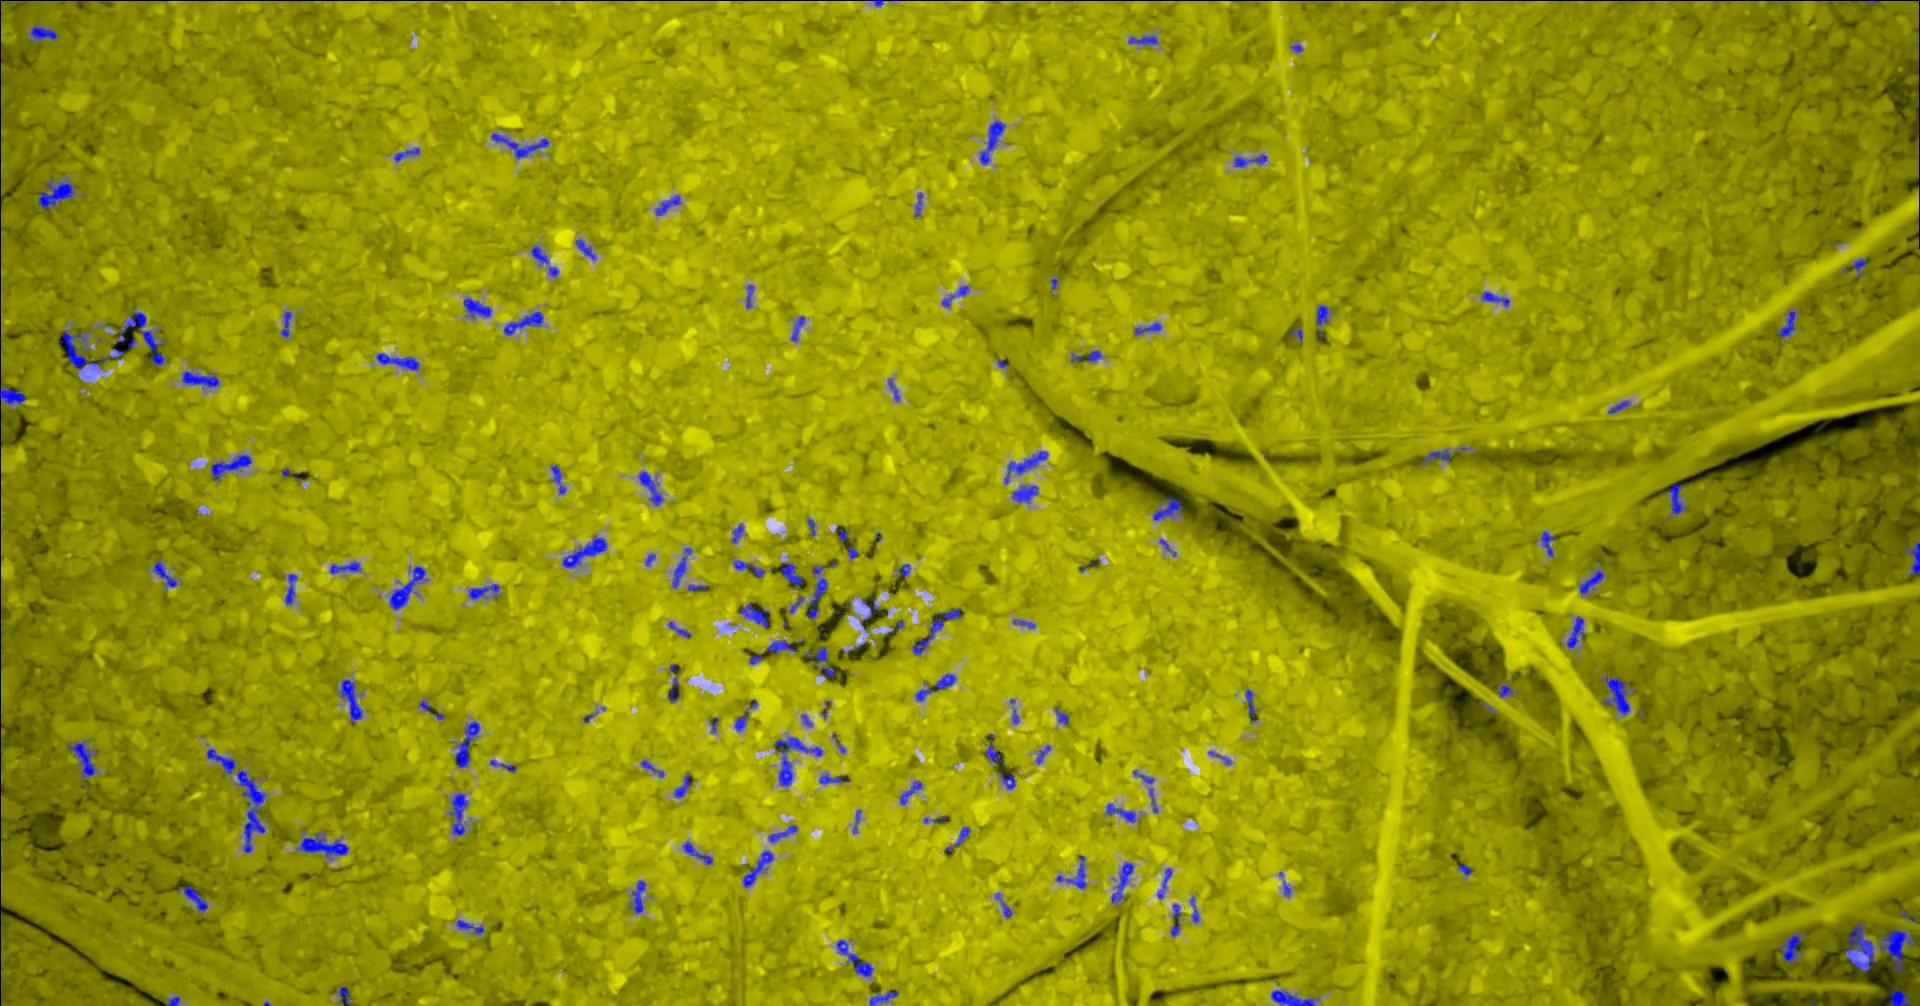ant: (116, 307, 166, 365), (235, 768, 265, 852), (775, 735, 822, 786), (912, 608, 960, 654), (58, 330, 109, 370), (389, 567, 425, 608), (1844, 922, 1876, 970), (563, 535, 607, 568), (1003, 451, 1048, 483), (490, 133, 549, 158), (1879, 929, 1912, 970), (836, 939, 872, 976), (67, 742, 97, 788), (297, 833, 348, 859), (37, 178, 72, 211), (742, 850, 773, 887), (979, 119, 1004, 164), (210, 453, 251, 480), (455, 721, 479, 767), (806, 565, 827, 619), (1131, 770, 1157, 812), (916, 673, 955, 700), (1603, 676, 1629, 714), (1055, 855, 1086, 888), (503, 311, 543, 335), (340, 678, 362, 723), (806, 647, 836, 678), (1110, 862, 1133, 902), (637, 471, 663, 506), (670, 547, 692, 587), (739, 602, 770, 627), (376, 352, 419, 370), (1663, 483, 1688, 514), (1152, 495, 1183, 520), (450, 793, 467, 835), (206, 748, 235, 774), (682, 841, 712, 864), (1271, 989, 1316, 1005), (182, 370, 218, 387), (0, 379, 25, 404), (152, 560, 177, 587), (183, 883, 207, 909), (1779, 934, 1801, 963), (1578, 569, 1603, 594), (838, 528, 858, 558), (780, 561, 805, 584), (629, 879, 645, 913), (1106, 803, 1135, 822), (1566, 616, 1583, 647), (767, 824, 797, 842), (463, 298, 491, 318), (1775, 311, 1796, 337), (1903, 541, 1919, 574), (733, 560, 763, 577), (469, 583, 499, 600), (899, 781, 921, 804), (655, 194, 679, 215), (1011, 485, 1037, 503), (1156, 868, 1171, 898), (668, 663, 679, 702), (869, 989, 898, 1005), (1481, 291, 1509, 306), (551, 464, 565, 494), (1244, 688, 1257, 721), (994, 892, 1011, 917), (575, 239, 596, 259), (1540, 530, 1556, 556), (640, 760, 663, 777), (1234, 154, 1266, 166), (29, 25, 57, 39), (1423, 448, 1451, 462), (455, 920, 483, 934), (764, 640, 795, 653), (984, 743, 1003, 763), (673, 774, 690, 796), (1888, 988, 1911, 1005), (392, 147, 419, 161), (790, 316, 805, 340), (329, 561, 361, 573), (284, 573, 296, 605), (952, 826, 970, 846), (667, 621, 690, 636), (530, 245, 549, 263), (997, 770, 1015, 789), (1170, 903, 1180, 936), (1070, 351, 1101, 361), (1134, 323, 1161, 334), (489, 760, 516, 771), (279, 311, 291, 337), (337, 984, 350, 1005), (818, 774, 850, 782), (1608, 400, 1629, 413), (1035, 746, 1050, 763), (1851, 258, 1865, 277), (888, 379, 899, 401), (1128, 36, 1157, 44), (1316, 304, 1327, 325), (734, 711, 747, 730), (1189, 895, 1197, 922), (731, 523, 743, 542), (1055, 708, 1068, 724), (1497, 683, 1512, 696), (914, 192, 922, 216), (745, 285, 753, 307), (898, 563, 909, 578)
